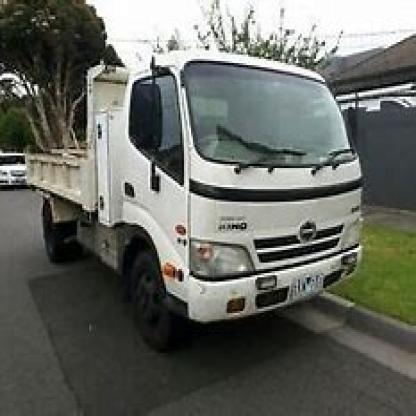dump_truck: (21, 46, 366, 351)
